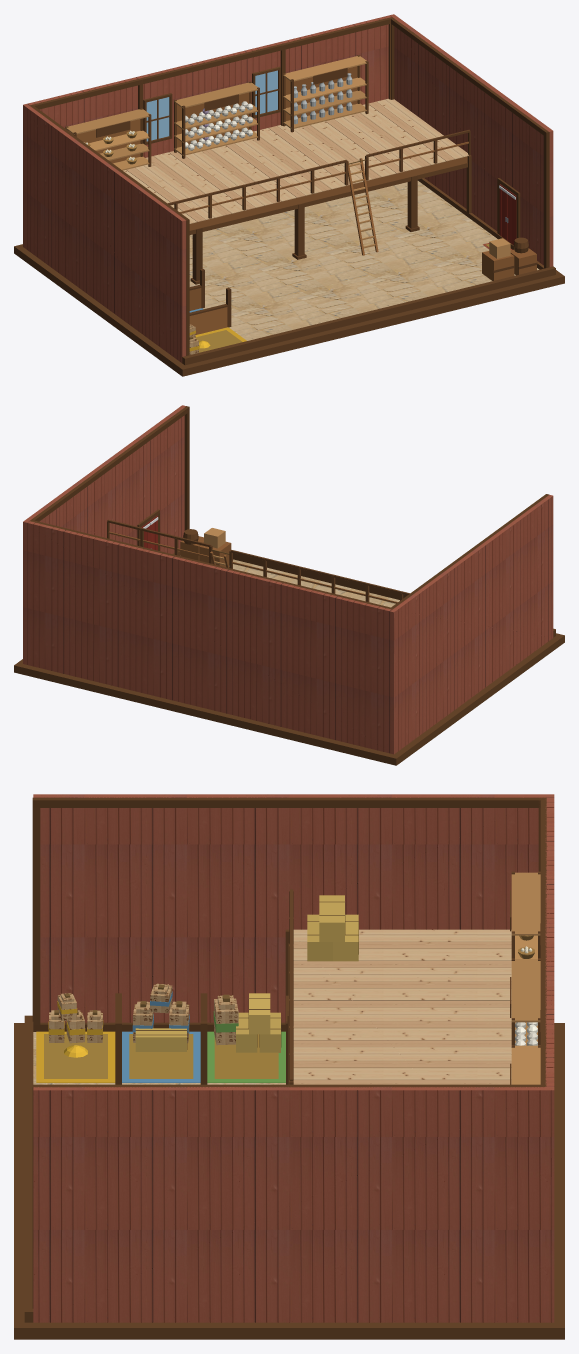
Rendered from almacen_interior.glb.
3 views of the same model, one above another, from view 1: azimuth 30°, elevation 25°; view 2: azimuth 150°, elevation 25°; view 3: azimuth 270°, elevation 25° (orthographic). The views are drawn at different scales.
Visible parts, largest first — view 1: SM_AlmacenBase, SM_AlmacenAltillo; view 2: SM_AlmacenBase, SM_AlmacenAltillo; view 3: SM_AlmacenBase, SM_AlmacenAltillo.
Part boxes in pixels (bbox=[...]): SM_AlmacenBase: bbox=[14, 14, 564, 376]; SM_AlmacenAltillo: bbox=[65, 55, 470, 234]; SM_AlmacenBase: bbox=[14, 405, 564, 765]; SM_AlmacenAltillo: bbox=[107, 519, 409, 603]; SM_AlmacenBase: bbox=[14, 794, 564, 1339]; SM_AlmacenAltillo: bbox=[288, 871, 540, 1084].
Size of the model in its own units: 16.9 by 6.32 by 12.9.
6 materials, 4 textured.
